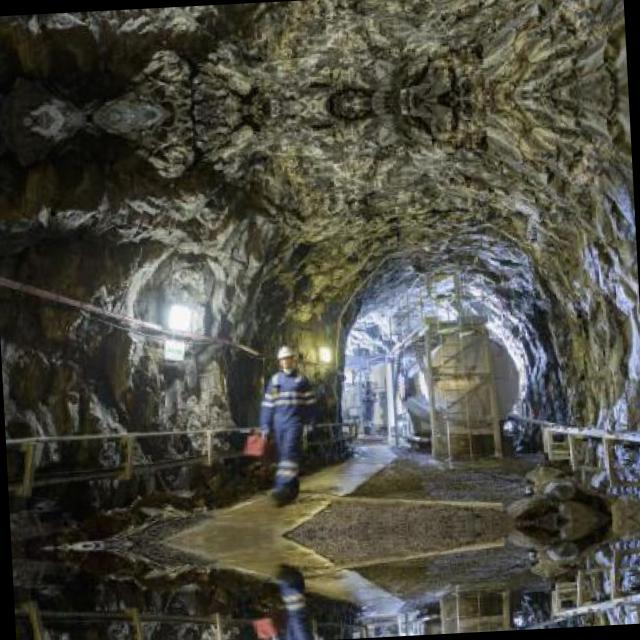helmet: (274, 344, 296, 374)
